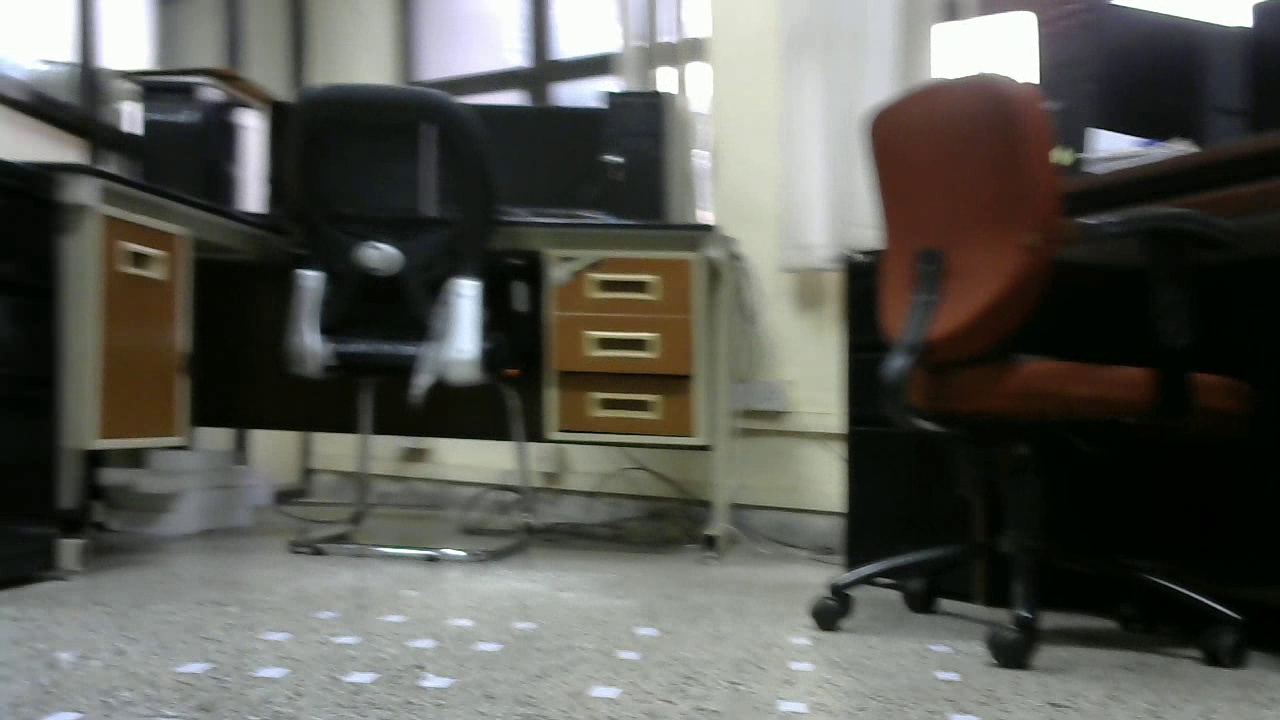chair: (806, 72, 1247, 676), (279, 84, 536, 558)
